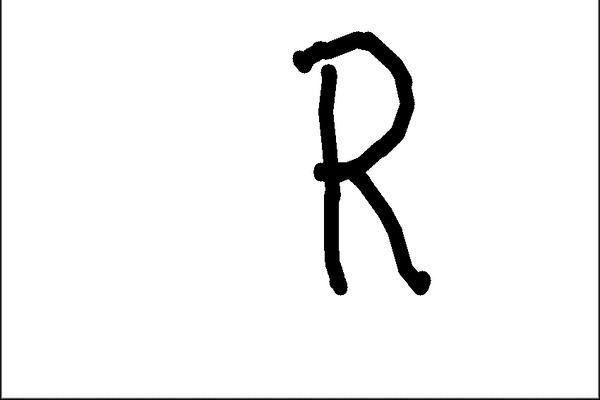R: (280, 25, 448, 312)
